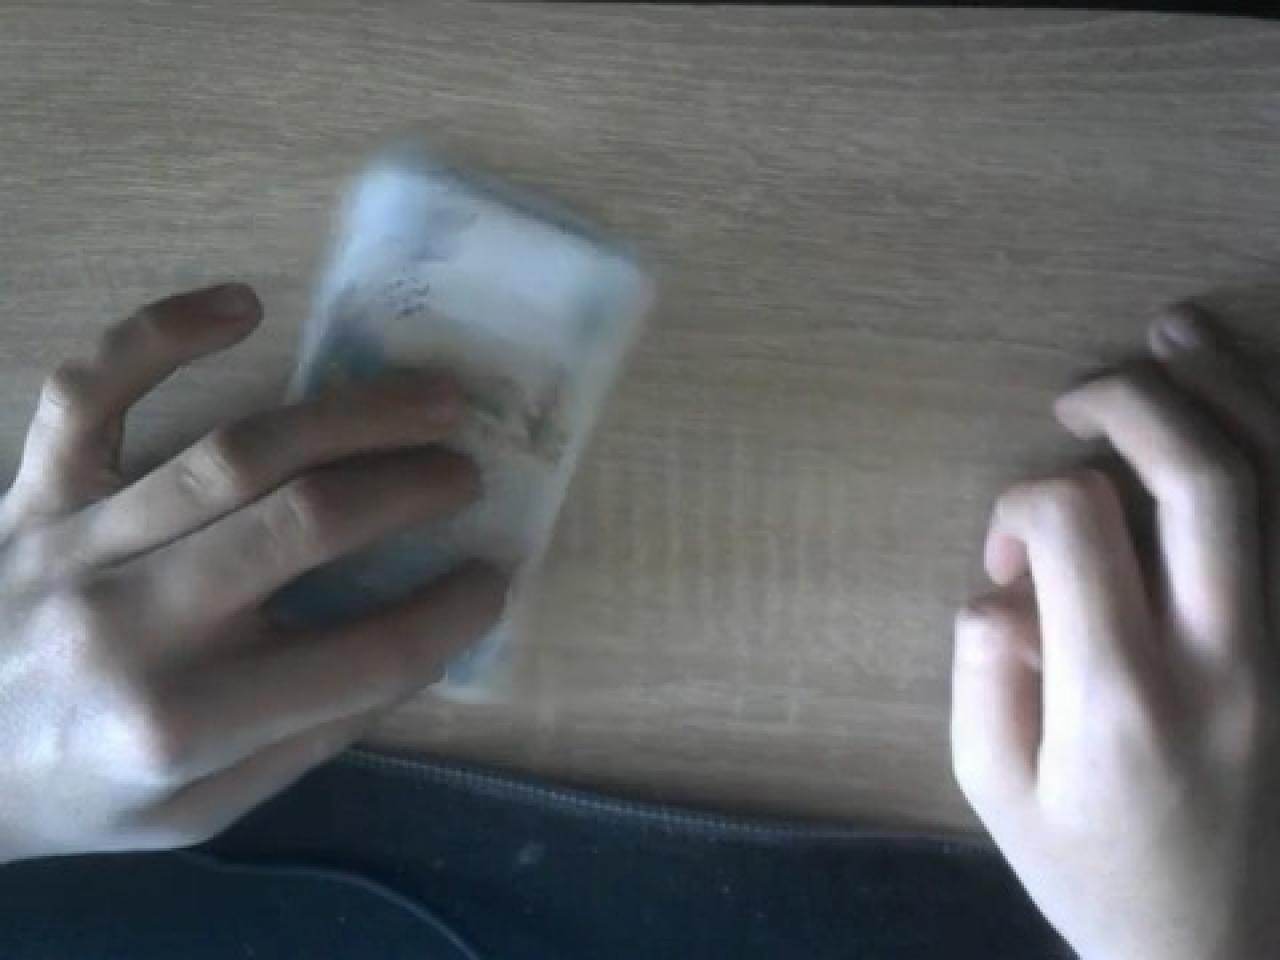20leva: (282, 128, 659, 624)
